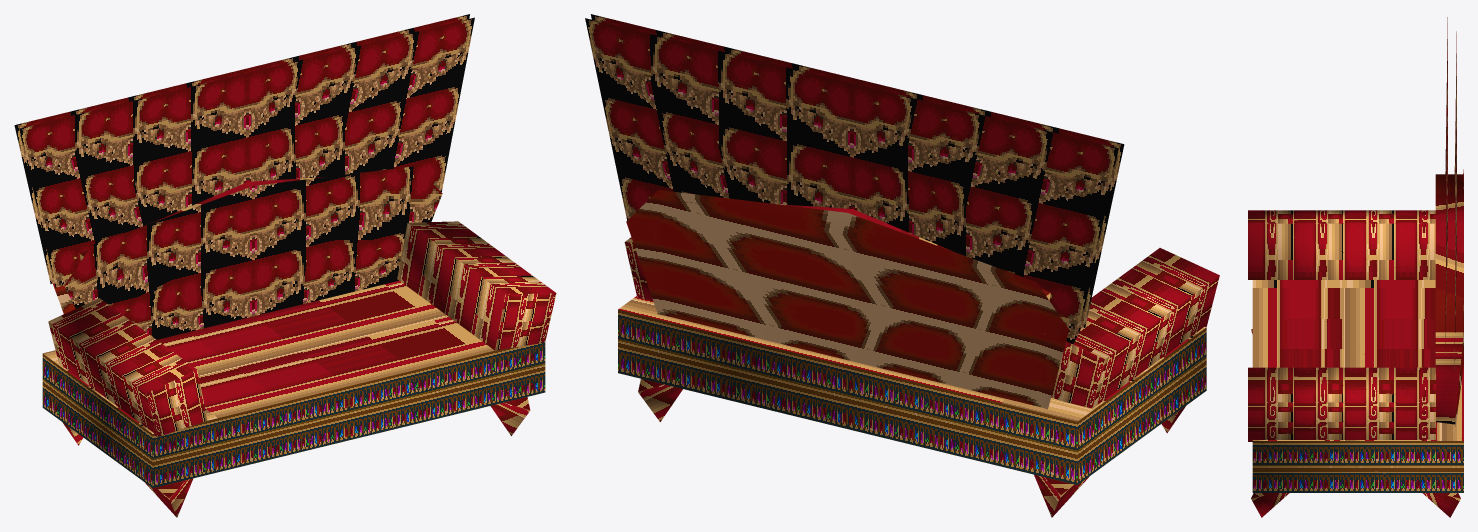
File: 3704kg_tr_sof.gltf
3 views of the same model, side by side, from view 1: azimuth 30°, elevation 25°; view 2: azimuth 150°, elevation 25°; view 3: azimuth 270°, elevation 25° (orthographic). The views are drawn at different scales.
Visible parts, largest first — view 1: 3704kg_tr_sof; view 2: 3704kg_tr_sof; view 3: 3704kg_tr_sof.
Boxes of the visible parts, left/top/right/bottom form: 3704kg_tr_sof: left=14, top=14, right=556, bottom=517; 3704kg_tr_sof: left=585, top=14, right=1219, bottom=517; 3704kg_tr_sof: left=1248, top=17, right=1463, bottom=517.
Size of the model in its own units: 2.22 by 1.55 by 0.9502.
Materials: 4 (4 with a texture image).
